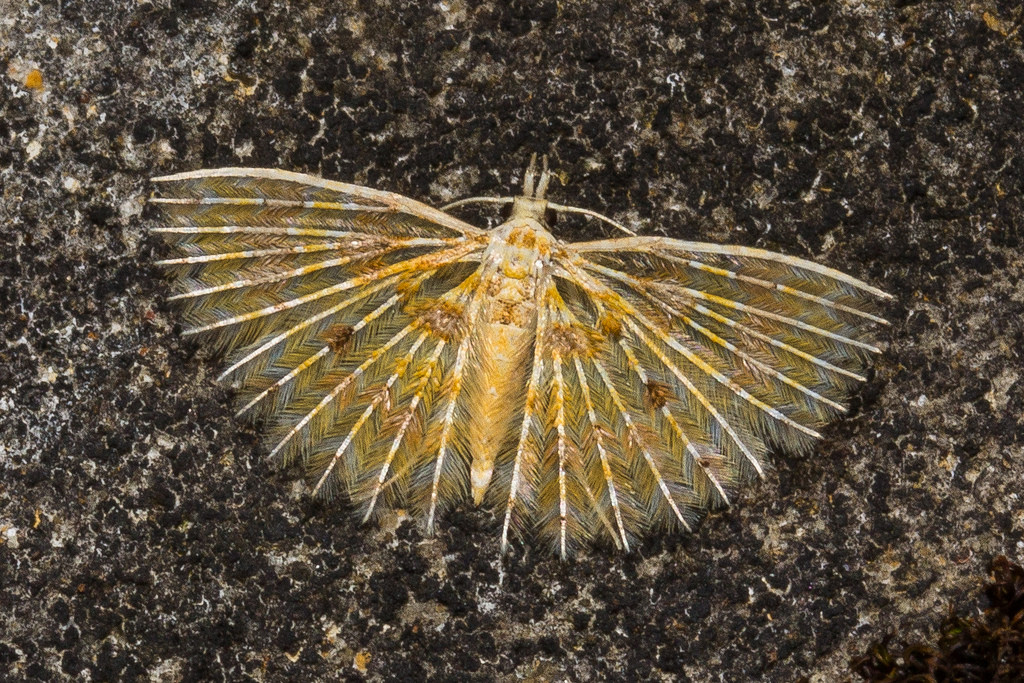Alucitidae: (147, 129, 910, 578)
moth: (145, 127, 908, 576)
